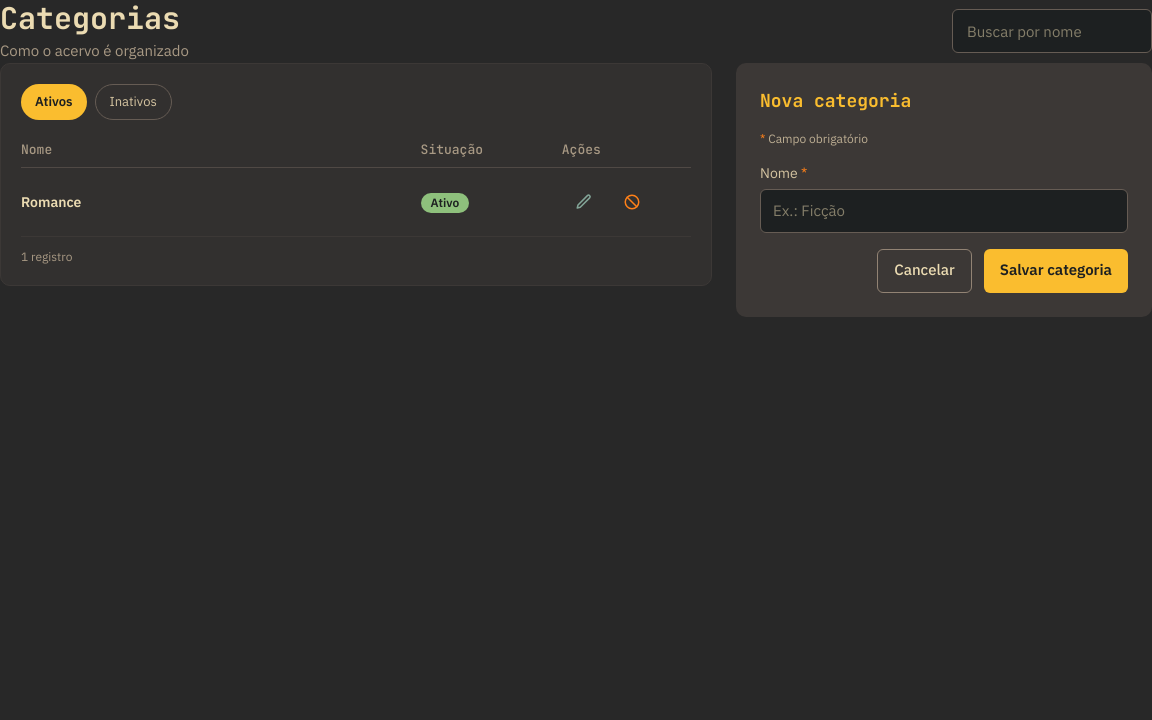
it: textos do diálogo de inativação › categoria: concorda no feminino
Click the button named "Inativar Romance".
click(632, 202)  # box x1=610 y1=180 x2=654 y2=224
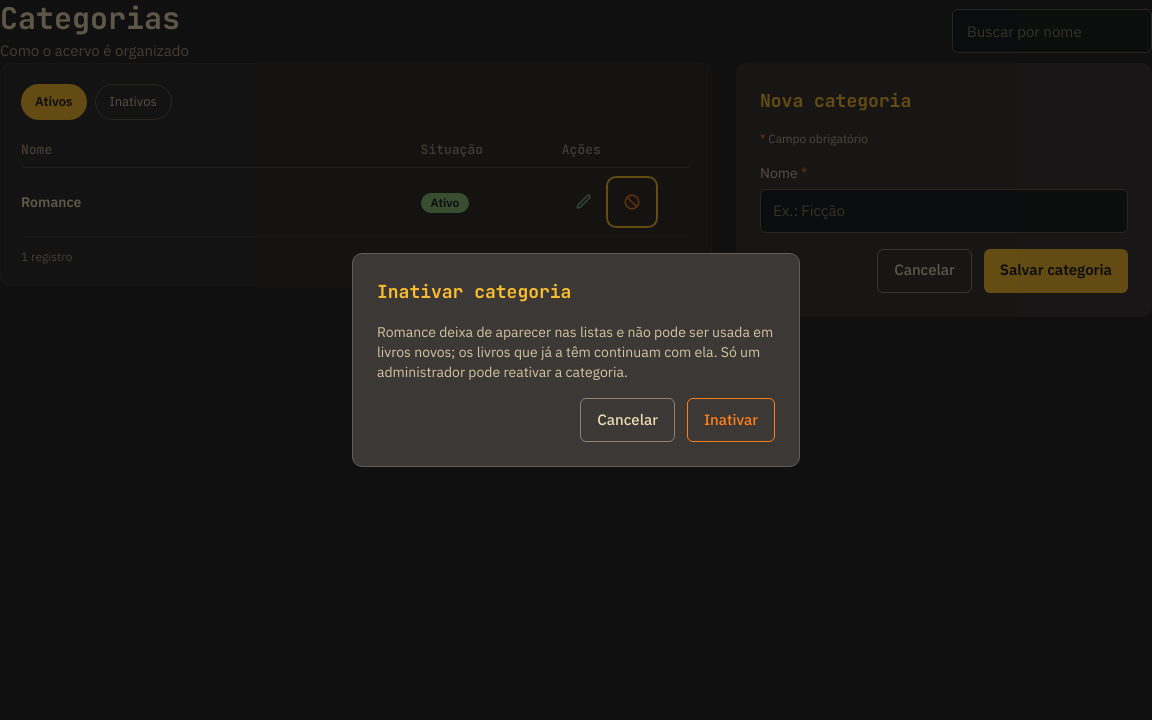
Expected: the dialog shows "não pode ser usada em livros novos", x1=352 y1=253 x2=800 y2=467
Expected: the dialog shows "os livros que já a têm continuam com ela", x1=352 y1=253 x2=800 y2=467
Expected: the dialog shows "Só um administrador pode reativar a categoria.", x1=352 y1=253 x2=800 y2=467
